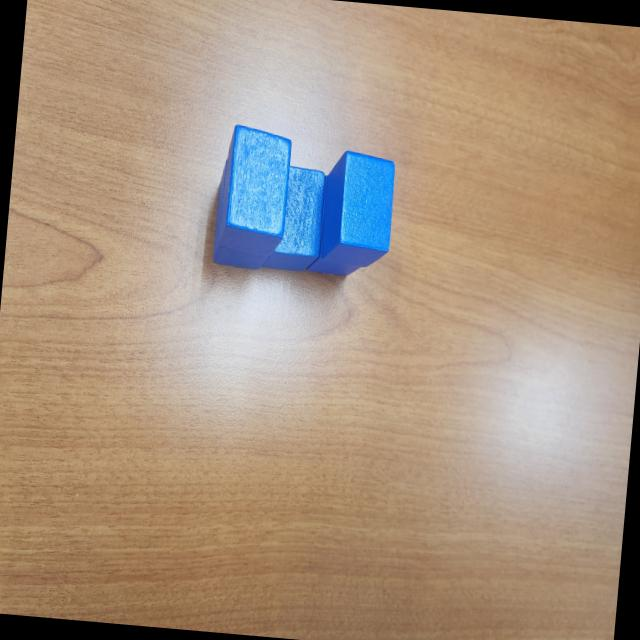blue: (218, 123, 293, 257), (318, 148, 398, 268), (209, 157, 280, 271), (260, 163, 328, 275), (305, 171, 369, 277)
